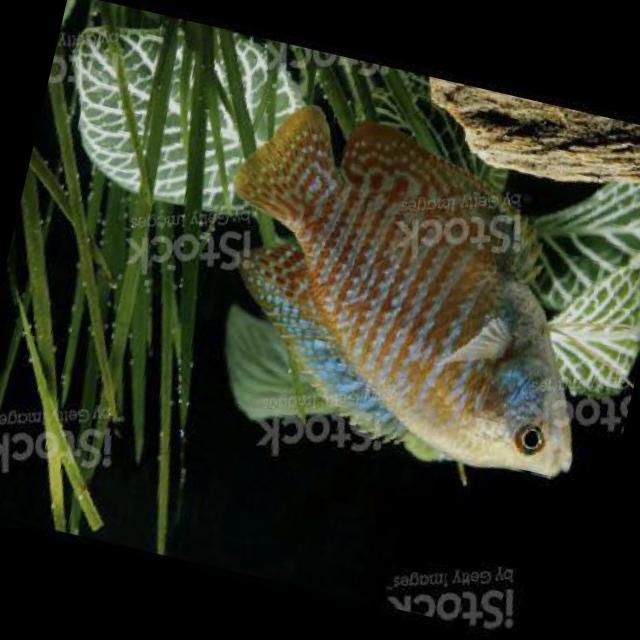Gourami: (179, 91, 640, 493)
